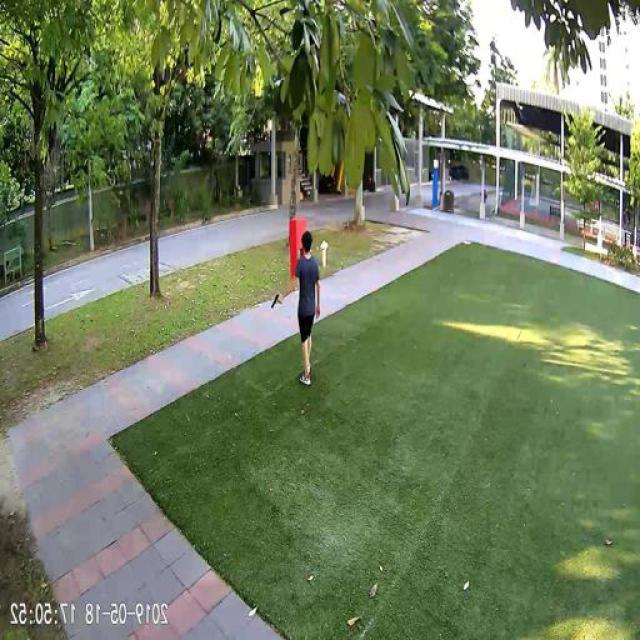weapon: (270, 293, 286, 310)
